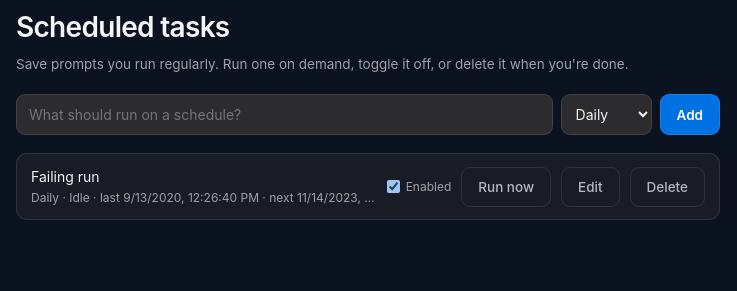
Scenario: ScheduledView › surfaces a bounded/redacted error when run_scheduled_now fails
Check: the text "Failing run" is shown, box [31,168,100,185]
Click the button "Run now" at (506, 187), box [461,167,551,207]
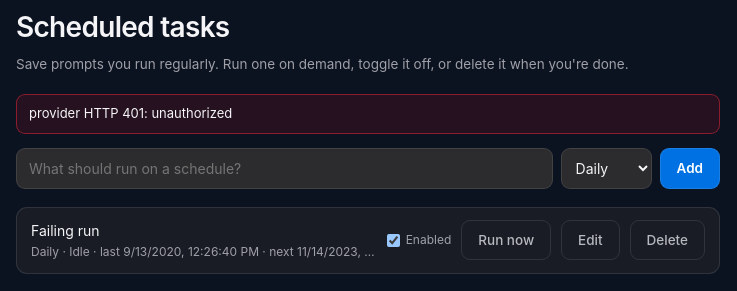
Check: the button "Run now" is enabled, box [461,220,551,260]
Check: the message shows "401", box [29,105,232,121]
